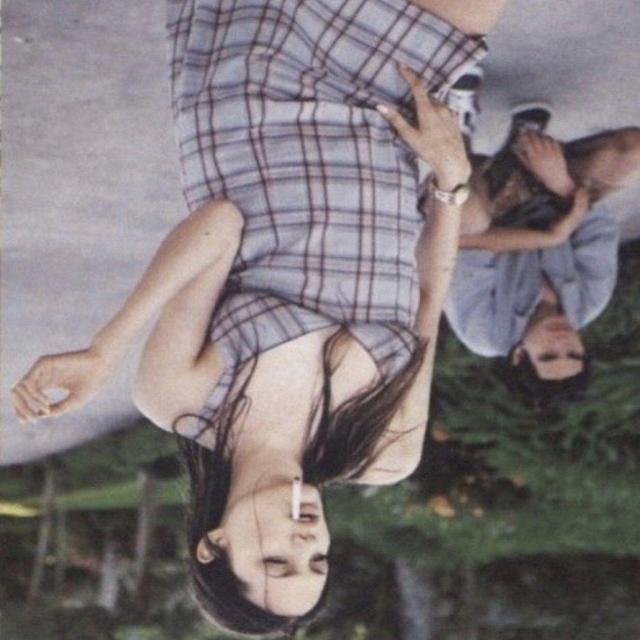cigarette: (282, 472, 317, 526)
